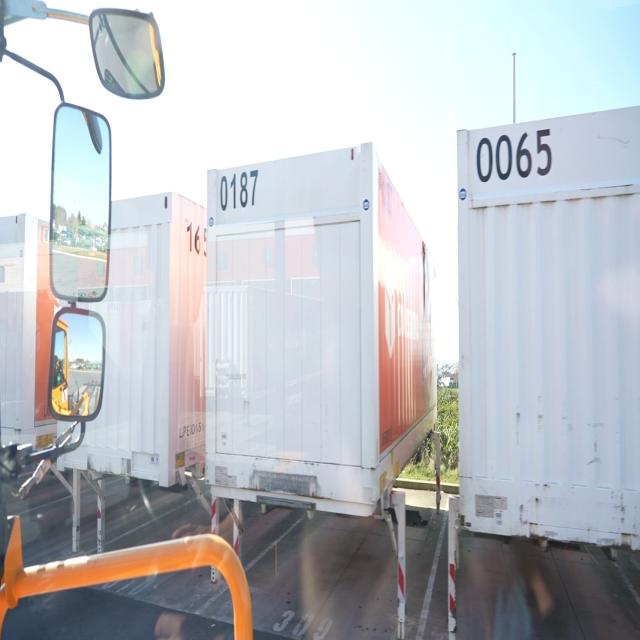Code: (473, 119, 552, 189), (217, 168, 262, 214)
